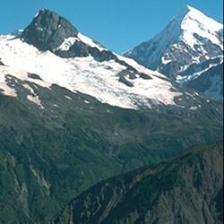neutral: (1, 1, 223, 224)
